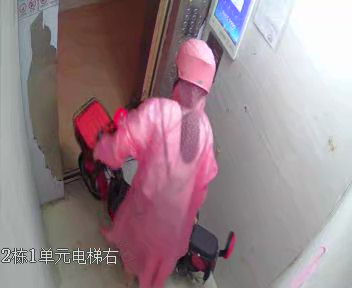Electric-bicycle: (75, 96, 234, 265)
